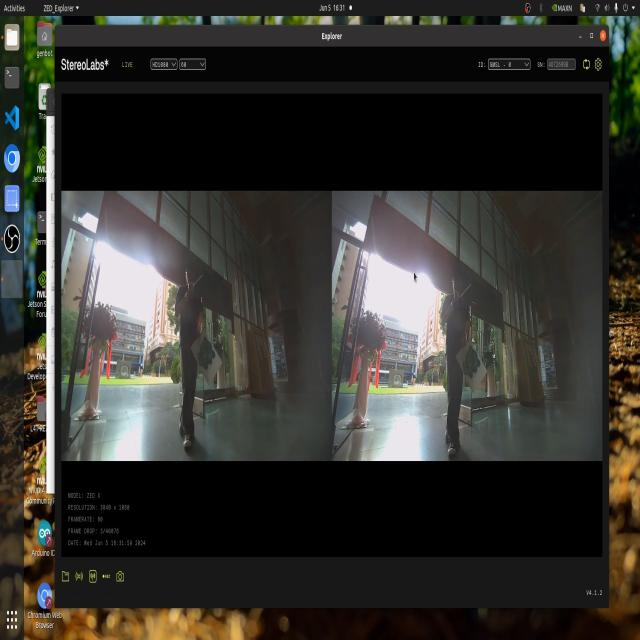green: (460, 342, 486, 387), (194, 335, 218, 371)
